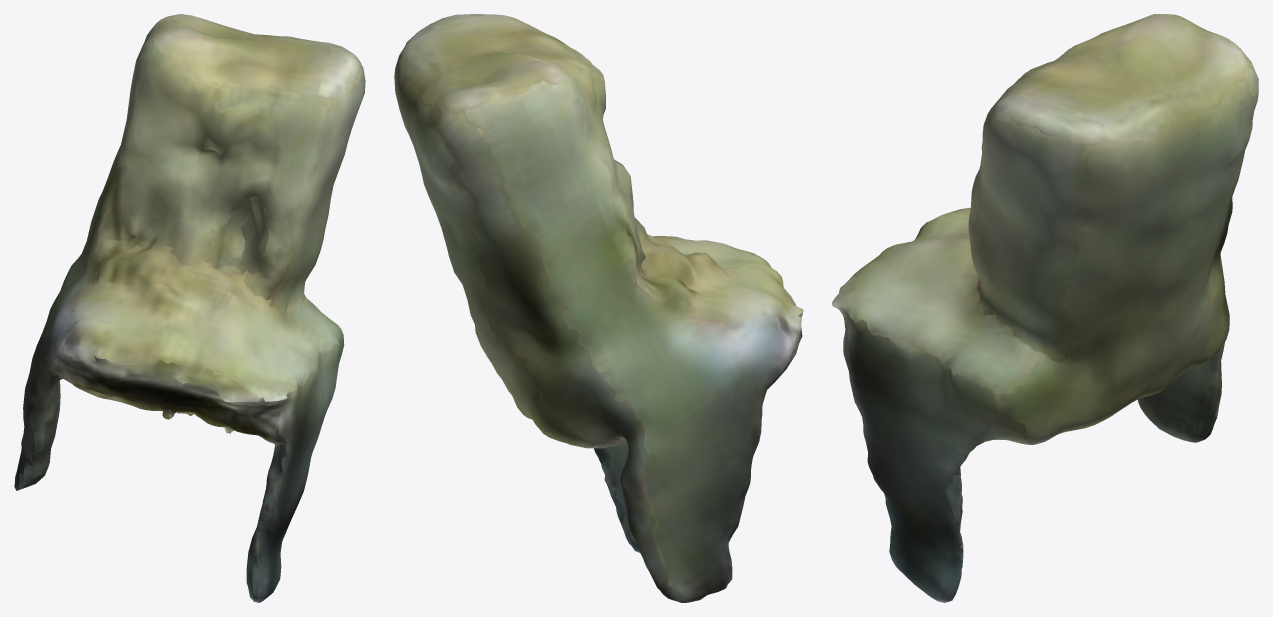
Rendered from 26_chair.glb.
3 views of the same model, side by side, from view 1: azimuth 30°, elevation 25°; view 2: azimuth 150°, elevation 25°; view 3: azimuth 270°, elevation 25° (orthographic). The views are drawn at different scales.
Parts seen in each view (by area): view 1: 26_chair; view 2: 26_chair; view 3: 26_chair.
Part boxes in pixels (left/top/right/bottom): 26_chair: left=14, top=14, right=365, bottom=602; 26_chair: left=394, top=14, right=803, bottom=602; 26_chair: left=832, top=14, right=1258, bottom=602.
Bounding box in the file's own units: 0.8475 × 1.27 × 0.8362.
Materials: 1 (1 with a texture image).
